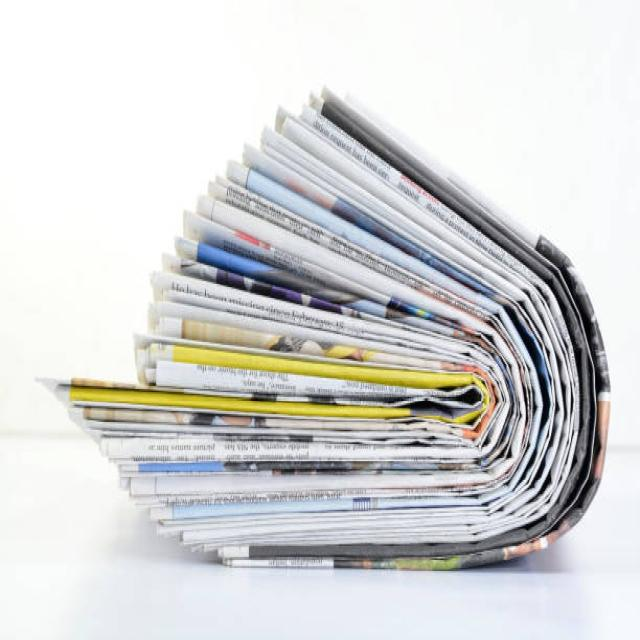electronic: (34, 78, 612, 571)
